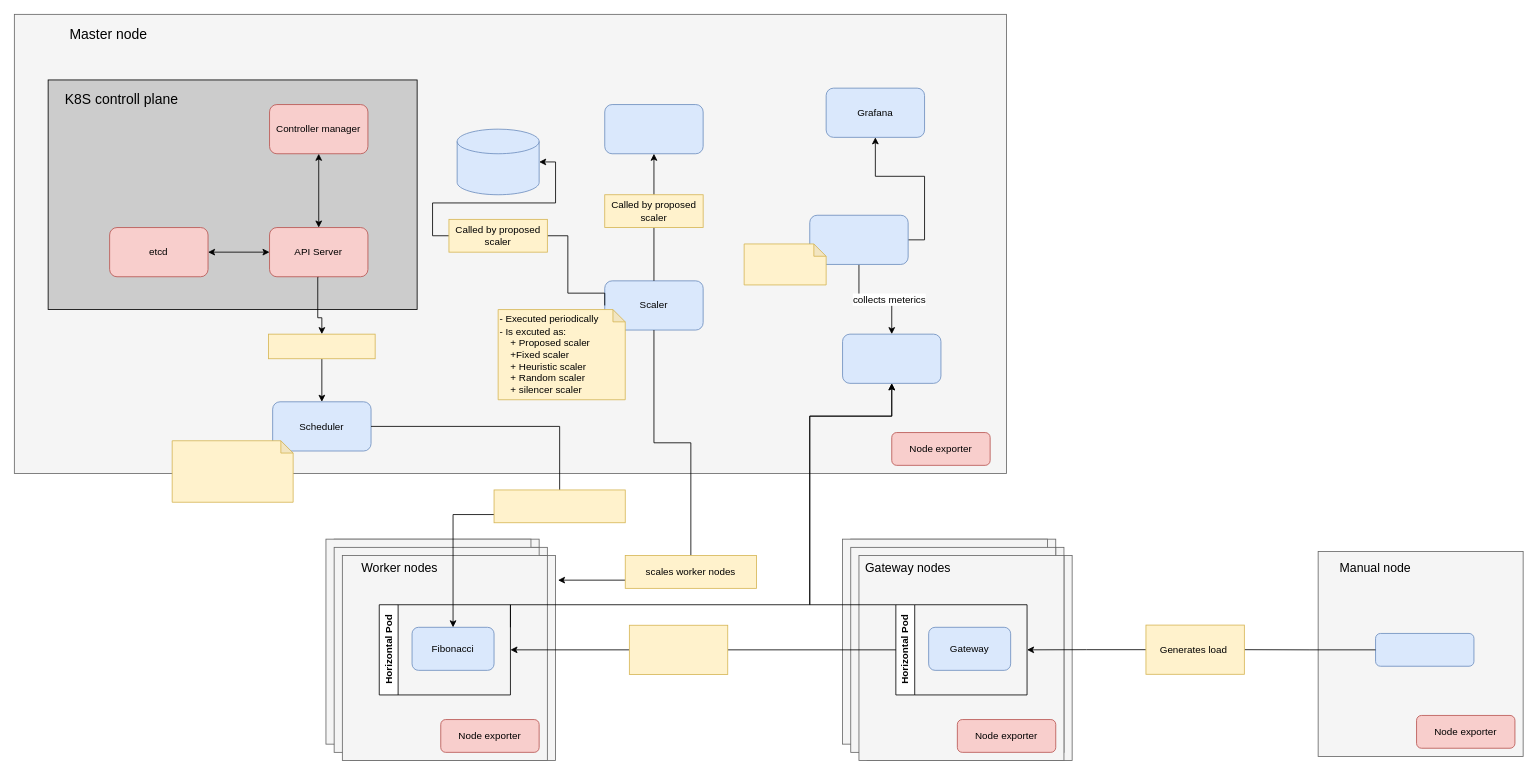
Image size: 1538x775. Some labels were removed from this diagram. The centre of each missing label's shape, as x and y in pixels:
- Is excuted as: + Default scheduler + Random scheduler + Heuristic scheduler: pixel 232 471
AI Agent: pixel 653 129
Calls on pod creation: pixel 321 346
Collects from exporters: pixel 784 264
Database: pixel 497 161
JMeter: pixel 1424 649
Monitoring server: pixel 891 358
Prometheus: pixel 858 239
Schedules pods on node: pixel 559 506
Sends client request to function: pixel 678 649
